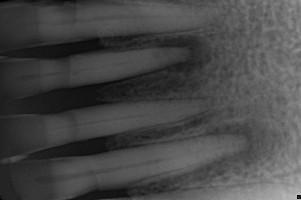Furcation Involvement: (197, 120, 281, 177), (157, 35, 211, 72)
